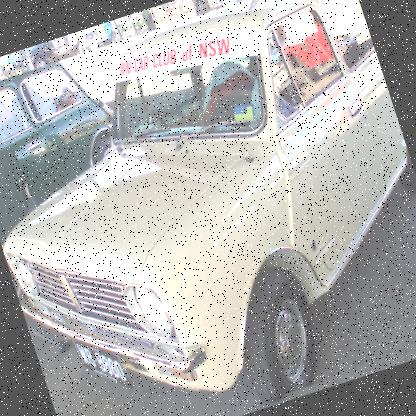Car: (0, 0, 415, 415), (0, 58, 152, 285)
